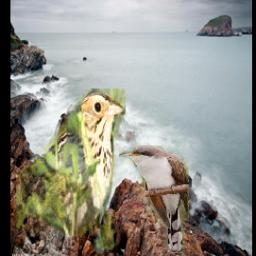Cuckoo: (119, 145, 189, 255)
Sparrow: (16, 90, 126, 251)
